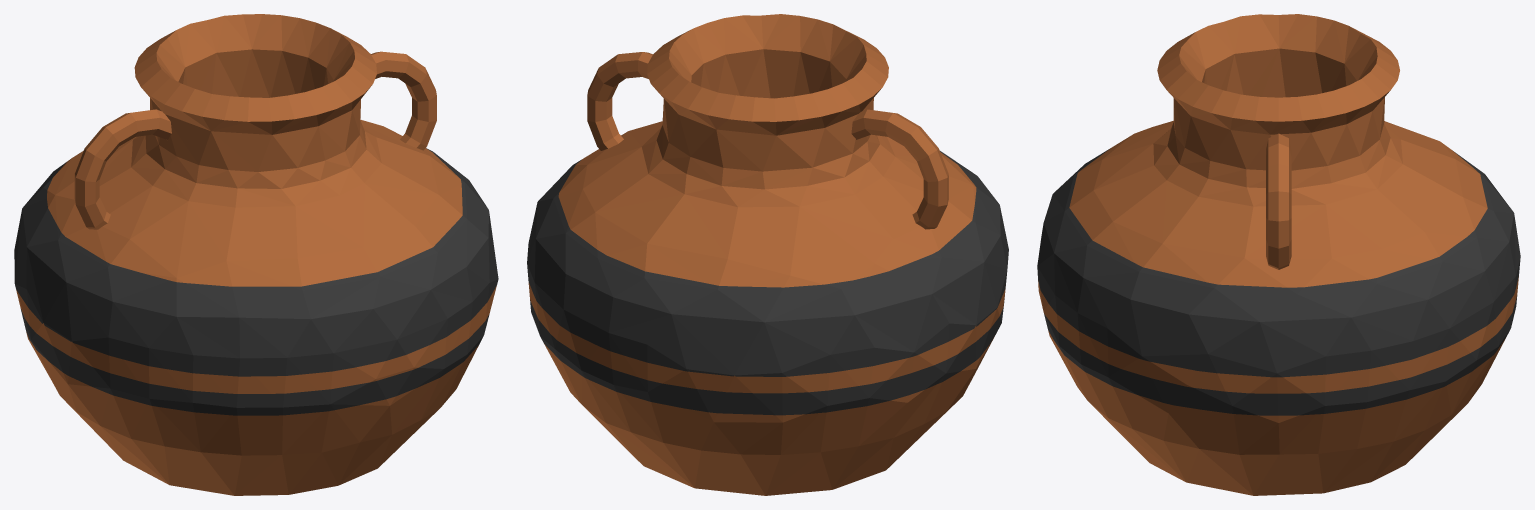
Rendered from Pottery 15_2.fbx.
3 views of the same model, side by side, from view 1: azimuth 30°, elevation 25°; view 2: azimuth 150°, elevation 25°; view 3: azimuth 270°, elevation 25° (orthographic).
Parts seen in each view (by area): view 1: Pottery 15_2; view 2: Pottery 15_2; view 3: Pottery 15_2.
Part boxes in pixels (x1,y1,x2,y2): Pottery 15_2: (14,14,498,495); Pottery 15_2: (527,14,1008,495); Pottery 15_2: (1037,14,1520,495).
Size of the model in its own units: 53.28 by 45.94 by 52.98.
